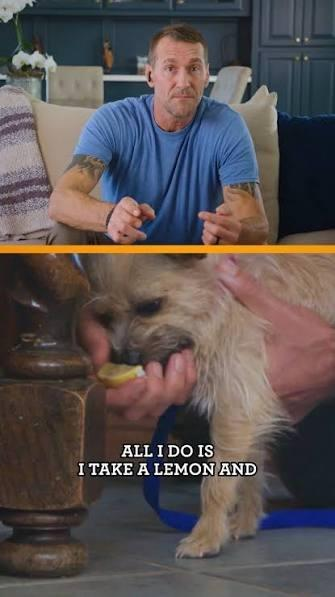adult_dog: (73, 251, 335, 560)
non-dog: (43, 27, 269, 246)
